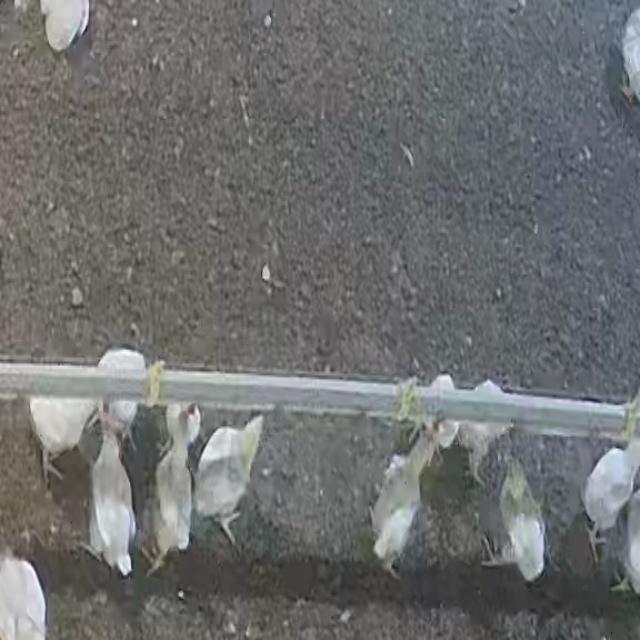chicken: (368, 430, 438, 579), (582, 398, 640, 556), (147, 402, 201, 571), (86, 411, 138, 576), (199, 414, 265, 525), (448, 379, 514, 485), (492, 457, 546, 584), (26, 395, 98, 487), (95, 346, 147, 445)
